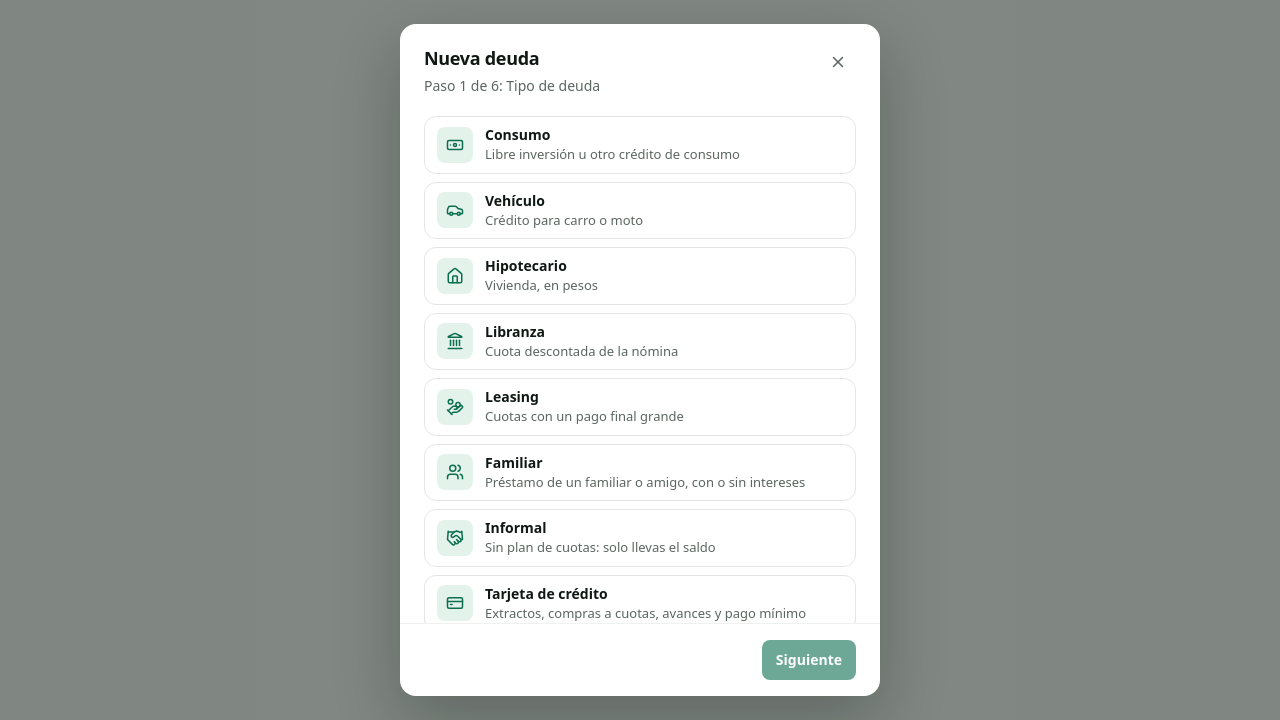
DebtWizard card last statement › asks for the balance of the last statement and no registration date in the basics
Click the button "Tarjeta de crédito" at (640, 603), box 424,574 -> 856,632
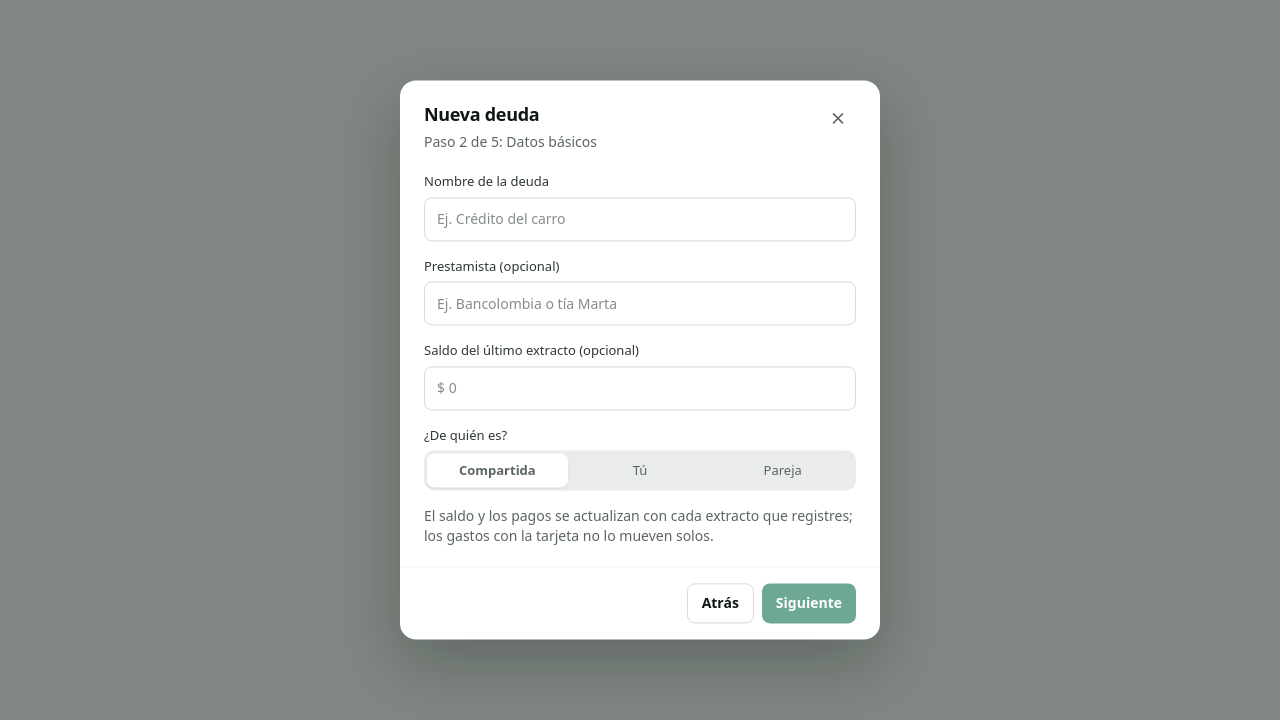
Result: the number field labelled "Saldo del último extracto (opcional)" is shown at 424,366 -> 856,410
